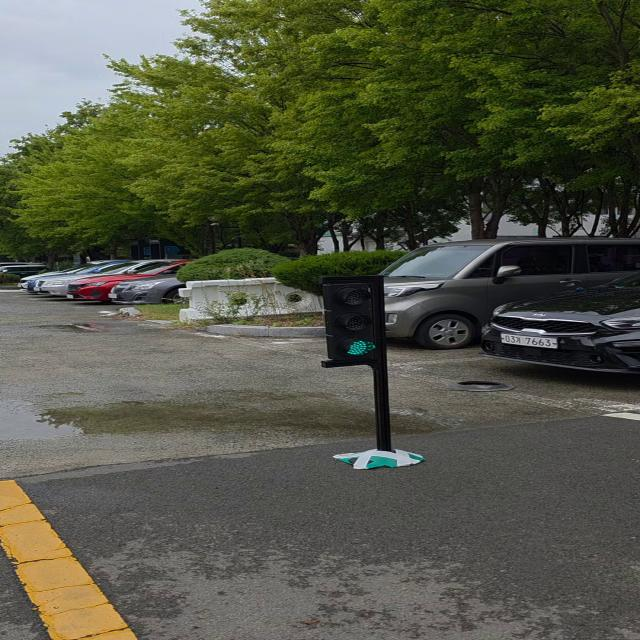green: (329, 278, 387, 368)
